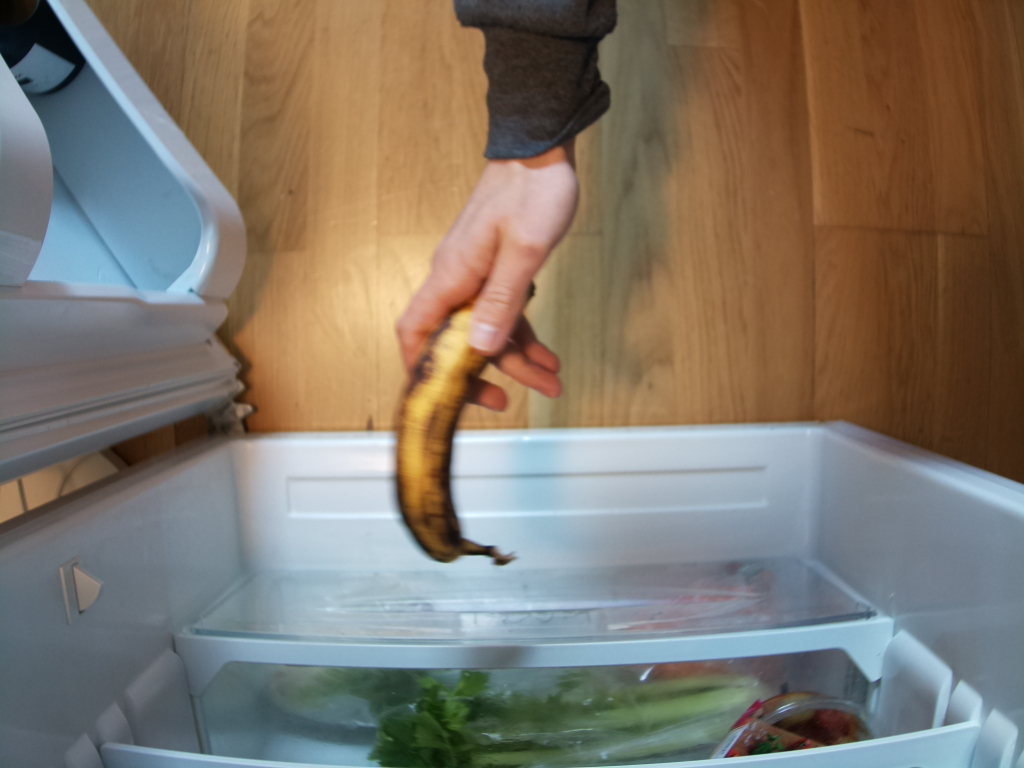banana-overripe: (394, 301, 510, 566)
